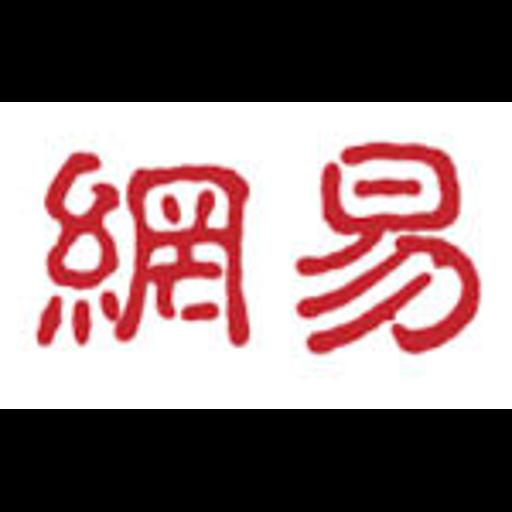NetEase: (0, 102, 512, 409)
